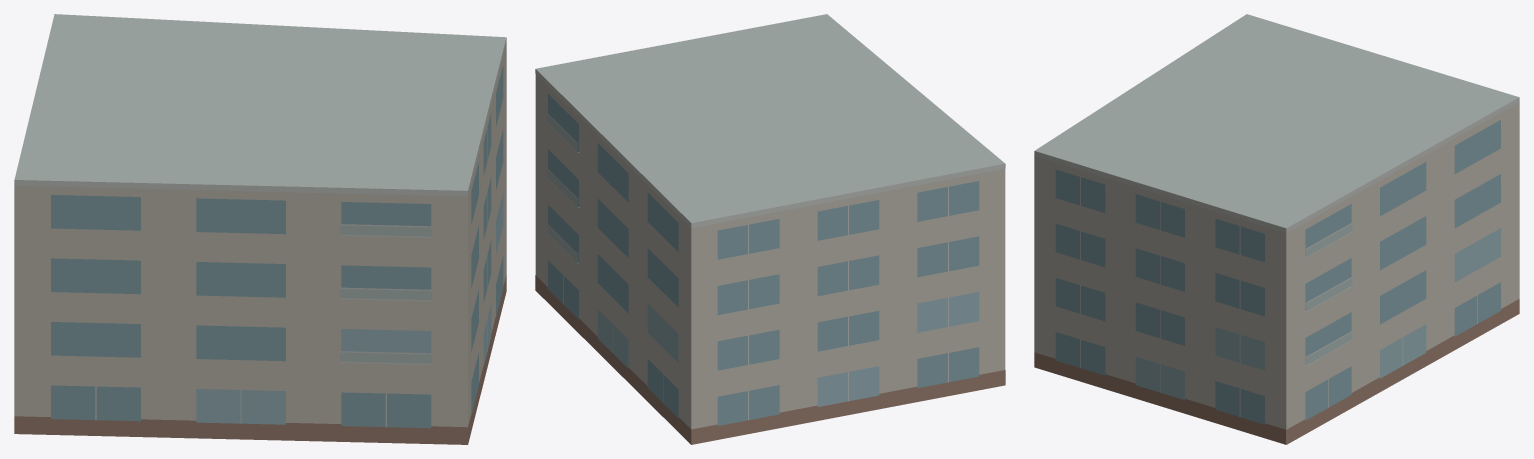
File: survey-upis-32807109.glb
3 views of the same model, side by side, from view 1: azimuth 30°, elevation 25°; view 2: azimuth 150°, elevation 25°; view 3: azimuth 270°, elevation 25° (orthographic). The views are drawn at different scales.
Parts seen in each view (by area): view 1: survey-upis-32807109.tmp; view 2: survey-upis-32807109.tmp; view 3: survey-upis-32807109.tmp.
Boxes of the visible parts, x1,y1,x2,y2 form: survey-upis-32807109.tmp: [14, 14, 506, 444]; survey-upis-32807109.tmp: [535, 14, 1005, 444]; survey-upis-32807109.tmp: [1034, 14, 1519, 444].
Bounding box in the file's own units: 22.93 × 10.8 × 21.93.
